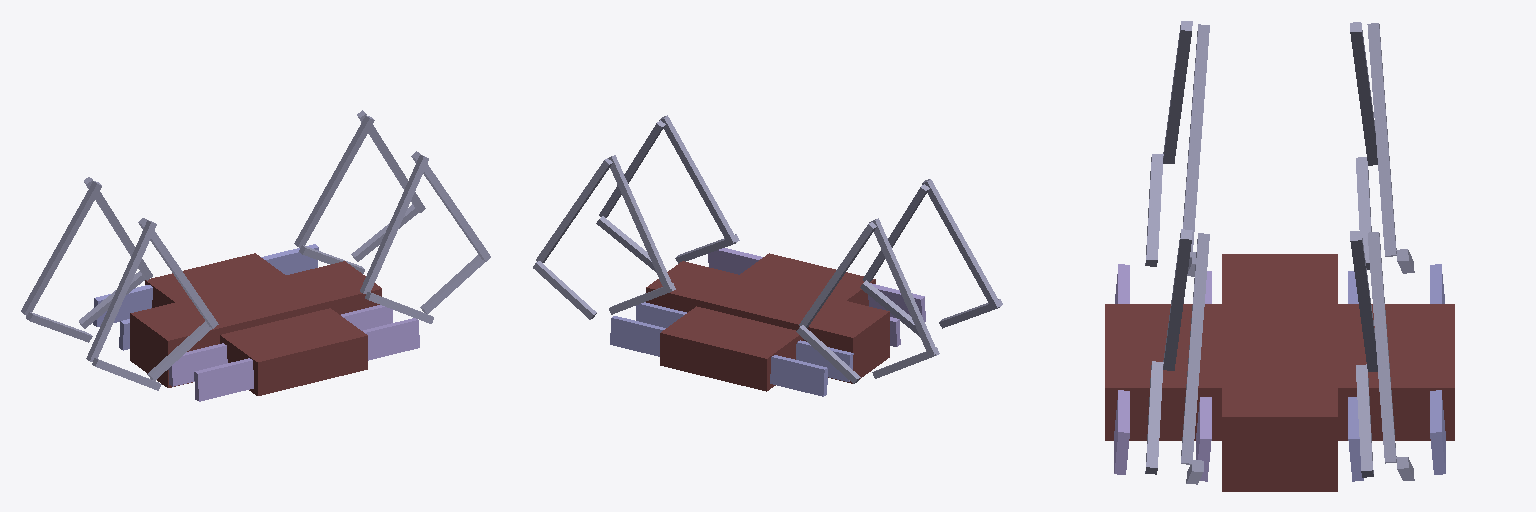
--- Facts derived from the render (not from the file) ---
Views: 3 orthographic renders of the robot side by side, from view 1: azimuth 30°, elevation 25°; view 2: azimuth 150°, elevation 25°; view 3: azimuth 270°, elevation 25°.
Model quadruped with 27 links and 26 joints (16 revolute, 10 fixed), rooted at base_chassis_link, posed every joint at zero.
Visible links, largest first — view 1: base_chassis_link, chassis_right, chassis_left, lower_leg_back_leftR_link, lower_leg_back_rightR_link, lower_leg_front_leftR_link, lower_leg_front_rightR_link, lower_leg_back_rightL_link, lower_leg_front_rightL_link, upper_leg_back_rightL_link, upper_leg_front_rightL_link, lower_leg_back_leftL_link (+6 smaller); view 2: base_chassis_link, chassis_left, chassis_right, lower_leg_back_rightR_link, lower_leg_back_leftR_link, lower_leg_front_rightR_link, lower_leg_front_leftR_link, lower_leg_back_leftL_link, lower_leg_front_leftL_link, lower_leg_back_rightL_link, lower_leg_front_rightL_link, upper_leg_front_leftL_link (+3 smaller); view 3: base_chassis_link, chassis_right, chassis_left, lower_leg_back_leftL_link, lower_leg_front_rightL_link, lower_leg_front_leftL_link, lower_leg_back_rightL_link, lower_leg_back_rightR_link, lower_leg_front_rightR_link, lower_leg_back_leftR_link, lower_leg_front_leftR_link, upper_leg_back_rightR_link (+3 smaller).
Link boxes in pixels (bbox=[...]): base_chassis_link: bbox=[130, 253, 381, 395]; chassis_right: bbox=[168, 305, 419, 401]; chassis_left: bbox=[93, 244, 318, 350]; lower_leg_back_leftR_link: bbox=[21, 181, 101, 315]; lower_leg_back_rightR_link: bbox=[86, 220, 156, 361]; lower_leg_front_leftR_link: bbox=[294, 115, 374, 247]; lower_leg_front_rightR_link: bbox=[360, 155, 428, 293]; lower_leg_back_rightL_link: bbox=[138, 218, 218, 328]; lower_leg_front_rightL_link: bbox=[411, 151, 490, 261]; upper_leg_back_rightL_link: bbox=[147, 321, 211, 380]; upper_leg_front_rightL_link: bbox=[420, 254, 484, 313]; lower_leg_back_leftL_link: bbox=[84, 177, 152, 280]; base_chassis_link: bbox=[646, 253, 889, 391]; chassis_left: bbox=[610, 302, 853, 396]; chassis_right: bbox=[708, 248, 925, 346]; lower_leg_back_rightR_link: bbox=[922, 179, 1000, 309]; lower_leg_back_leftR_link: bbox=[869, 218, 937, 355]; lower_leg_front_rightR_link: bbox=[659, 115, 736, 243]; lower_leg_front_leftR_link: bbox=[608, 155, 673, 290]; lower_leg_back_leftL_link: bbox=[799, 222, 876, 327]; lower_leg_front_leftL_link: bbox=[536, 158, 612, 262]; lower_leg_back_rightL_link: bbox=[863, 184, 929, 282]; lower_leg_front_rightL_link: bbox=[599, 120, 665, 217]; upper_leg_front_leftL_link: bbox=[533, 261, 596, 319]; base_chassis_link: bbox=[1105, 254, 1454, 491]; chassis_right: bbox=[1114, 264, 1211, 481]; chassis_left: bbox=[1348, 264, 1445, 481]; lower_leg_back_leftL_link: bbox=[1367, 23, 1396, 256]; lower_leg_front_rightL_link: bbox=[1181, 233, 1209, 464]; lower_leg_front_leftL_link: bbox=[1368, 232, 1396, 463]; lower_leg_back_rightL_link: bbox=[1183, 24, 1209, 257]; lower_leg_back_rightR_link: bbox=[1163, 21, 1192, 163]; lower_leg_front_rightR_link: bbox=[1163, 229, 1192, 370]; lower_leg_back_leftR_link: bbox=[1350, 22, 1377, 165]; lower_leg_front_leftR_link: bbox=[1350, 231, 1377, 371]; upper_leg_back_rightR_link: bbox=[1145, 154, 1163, 266].
Size in the robot's own frame: 0.6268 by 0.3 by 0.2692 metres.
0 mesh visuals loaded from 1 distinct referenced files (none loaded); not drawn: 8 (reference not matched to a file when rendering).

URDF robot description (quadruped):
<?xml version="0.0" ?>
<!-- ======================================================================= -->
<!--LICENSE:                                                                 -->
<!--Copyright (c) 2017, Erwin Coumans                                        -->
<!--Google Inc.                                                              -->
<!--All rights reserved.                                                     -->
<!--                                                                         -->
<!--Redistribution and use in source and binary forms, with or without       -->
<!--modification, are permitted provided that the following conditions are   -->
<!--met:                                                                     -->
<!--                                                                         -->
<!--1. Redistributions or derived work must retain this copyright notice,    -->
<!--   this list of conditions and the following disclaimer.                 -->
<!--                                                                         -->
<!--2. Redistributions in binary form must reproduce the above copyright     -->
<!--   notice, this list of conditions and the following disclaimer in the   -->
<!--   documentation and/or other materials provided with the distribution.  -->
<!--                                                                         -->
<!--THIS SOFTWARE IS PROVIDED BY THE COPYRIGHT HOLDERS AND CONTRIBUTORS "AS  -->
<!--IS" AND ANY EXPRESS OR IMPLIED WARRANTIES, INCLUDING, BUT NOT LIMITED TO,-->
<!--THE IMPLIED WARRANTIES OF MERCHANTABILITY AND FITNESS FOR A PARTICULAR   -->
<!--PURPOSE ARE DISCLAIMED. IN NO EVENT SHALL THE COPYRIGHT HOLDER OR        -->
<!--CONTRIBUTORS BE LIABLE FOR ANY DIRECT, INDIRECT, INCIDENTAL, SPECIAL,    -->
<!--EXEMPLARY, OR CONSEQUENTIAL DAMAGES (INCLUDING, BUT NOT LIMITED TO,      -->
<!--PROCUREMENT OF SUBSTITUTE GOODS OR SERVICES; LOSS OF USE, DATA, OR       -->
<!--PROFITS; OR BUSINESS INTERRUPTION) HOWEVER CAUSED AND ON ANY THEORY OF   -->
<!--LIABILITY, WHETHER IN CONTRACT, STRICT LIABILITY, OR TORT (INCLUDING     -->
<!--NEGLIGENCE OR OTHERWISE) ARISING IN ANY WAY OUT OF THE USE OF THIS       -->
<!--SOFTWARE, EVEN IF ADVISED OF THE POSSIBILITY OF SUCH DAMAGE.             -->

<robot name="quadruped">
  <link name="base_chassis_link">
    <visual>
      <geometry>
        <box size=".33 0.10 .07"/>
      </geometry>
      <material name="black">
        <color rgba="0.5 0.3 0.3 1"/>
      </material>
    </visual>
    <visual>
			<origin rpy="0 0 0" xyz="0 0.10 0"/>
      <geometry>
        <box size=".17 0.10 .05"/>
      </geometry>
      <material name="black">
        <color rgba="0.5 0.3 0.3 1"/>
      </material>
    </visual>
		<visual>
			<origin rpy="0 0 0" xyz="0 -0.10 0"/>
      <geometry>
        <box size=".17 0.10 .05"/>
      </geometry>
      <material name="black">
        <color rgba="0.5 0.3 0.3 1"/>
      </material>
    </visual>

    <collision>
      <geometry>
       <box size=".33 0.10 .07"/>
      </geometry>
    </collision>
    <collision>
			<origin rpy="0 0 0" xyz="0 0.10 0"/>
      <geometry>
       <box size=".17 0.10 .05"/>
      </geometry>
    </collision>
    <collision>
			<origin rpy="0 0 0" xyz="0 -0.10 0"/>
      <geometry>
       <box size=".17 0.10 .05"/>
      </geometry>
    </collision>

    <inertial>
      <mass value="3"/>
      <inertia ixx="0.05" ixy="0.0" ixz="0.0" iyy="0.05" iyz="0.0" izz="0.05"/>
    </inertial>
  </link>

  <link name="chassis_right">
    <visual>
			<origin rpy="0 0 0" xyz="0 0.035 0"/>
      <geometry>
       <box size=".34 0.01 .04"/>
      </geometry>
			<material name="grey">
        <color rgba="0.7 0.65 0.85 1"/>
      </material>    </visual>
    <visual>
			<origin rpy="0 0 0" xyz="0 -0.035 0"/>
      <geometry>
       <box size=".34 0.01 .04"/>
      </geometry>
			<material name="grey">
        <color rgba="0.7 0.65 0.85 1"/>
      </material>    </visual>
    <collision>
			<origin rpy="0 0 0" xyz="0 0.035 0"/>
      <geometry>
       <box size=".34 0.01 .04"/>
      </geometry>
    </collision>
    <collision>
			<origin rpy="0 0 0" xyz="0 -0.035 0"/>
      <geometry>
       <box size=".34 0.01 .04"/>
      </geometry>
    </collision>
    <inertial>
      <mass value=".1"/>
      <inertia ixx="0.001" ixy="0.0" ixz="0.0" iyy="0.001" iyz="0.0" izz="0.001"/>
    </inertial>
  </link>

  <joint name="chassis_right_center" type="fixed">
    <axis xyz="0 0 1"/>
    <parent link="base_chassis_link"/>
    <child link="chassis_right"/>
    <origin rpy="-0.0872665 0 0" xyz="0.0 -0.10 0.0"/>
    <limit effort="100" velocity="100"/>
    <joint_properties damping="0.0" friction="0.0"/>
  </joint>

  <link name="chassis_left">
    <visual>
			<origin rpy="0 0 0" xyz="0 0.035 0"/>
      <geometry>
       <box size=".34 0.01 .04"/>
      </geometry>
			<material name="grey">
        <color rgba="0.65 0.65 0.85 1"/>
      </material>    </visual>
    <visual>
			<origin rpy="0 0 0" xyz="0 -0.035 0"/>
      <geometry>
       <box size=".34 0.01 .04"/>
      </geometry>
			<material name="grey">
        <color rgba="0.65 0.65 0.85 1"/>
      </material>    </visual>
    <collision>
			<origin rpy="0 0 0" xyz="0 0.035 0"/>
      <geometry>
       <box size=".34 0.01 .04"/>
      </geometry>
    </collision>
    <collision>
			<origin rpy="0 0 0" xyz="0 -0.035 0"/>
      <geometry>
       <box size=".34 0.01 .04"/>
      </geometry>
    </collision>
    <inertial>
      <mass value=".1"/>
      <inertia ixx="0.001" ixy="0.0" ixz="0.0" iyy="0.001" iyz="0.0" izz="0.001"/>
    </inertial>
  </link>

  <joint name="chassis_left_center" type="fixed">
    <axis xyz="0 0 1"/>
    <parent link="base_chassis_link"/>
    <child link="chassis_left"/>
    <origin rpy="0.0872665 0 0" xyz="0.0 0.10 0.0"/>
    <limit effort="100" velocity="100"/>
    <joint_properties damping="0.0" friction="0.0"/>
  </joint>

  
  
  <link name="motor_front_rightR_link">
    <visual>
      <geometry>
        <mesh filename="tmotor3.obj" scale="1 1 1"/>
      </geometry>
      <material name="white">
        <color rgba="1 1 1 1"/>
      </material>
    </visual>
    <collision>
      <geometry>
        <mesh filename="tmotor3.obj" scale="1 1 1"/>
      </geometry>
    </collision>
    <inertial>
      <mass value="0.25"/>
      <inertia ixx="0.005" ixy="0.0" ixz="0.0" iyy="0.005" iyz="0.0" izz="0.005"/>
    </inertial>
  </link>
  <joint name="motor_front_rightR_joint" type="revolute">
    <axis xyz="0 0 1"/>
    <parent link="chassis_right"/>
    <child link="motor_front_rightR_link"/>
    <origin rpy="1.57075 -1.0362 0" xyz="0.21 -0.025 0"/>
    <limit effort="100" velocity="100" lower="-4.45" upper="1.25"/>
    <joint_properties damping="0.0" friction="0.0"/>
  </joint>


	<link name="motor_front_rightL_link">
    <visual>
      <geometry>
        <mesh filename="tmotor3.obj" scale="1 1 1"/>
      </geometry>
      <material name="white">
        <color rgba="1 1 1 1"/>
      </material>
    </visual>
    <collision>
      <geometry>
        <mesh filename="tmotor3.obj" scale="1 1 1"/>
      </geometry>
    </collision>
    <inertial>
      <mass value="0.25"/>
      <inertia ixx="0.005" ixy="0.0" ixz="0.0" iyy="0.005" iyz="0.0" izz="0.005"/>
    </inertial>
  </link>
  <joint name="motor_front_rightL_joint" type="revolute">
    <axis xyz="0 0 1"/>
    <parent link="chassis_right"/>
    <child link="motor_front_rightL_link"/>
    <origin rpy="1.57075 -1.0362 3.141592" xyz="0.21 0.04 0"/>
    <limit effort="100" velocity="100" lower="-1.25" upper="4.45"/>
    <joint_properties damping="0.0" friction="0.0"/>
  </joint>
  
  
  <link name="motor_front_leftL_link">
    <visual>
      <geometry>
        <mesh filename="tmotor3.obj" scale="1 1 1"/>
      </geometry>
      <material name="white">
        <color rgba="1 1 1 1"/>
      </material>
    </visual>
    <collision>
      <geometry>
        <mesh filename="tmotor3.obj" scale="1 1 1"/>
      </geometry>
    </collision>
    <inertial>
      <mass value="0.25"/>
      <inertia ixx="0.005" ixy="0.0" ixz="0.0" iyy="0.005" iyz="0.0" izz="0.005"/>
    </inertial>
  </link>
  <joint name="motor_front_leftL_joint" type="revolute">
    <axis xyz="0 0 1"/>
    <parent link="chassis_left"/>
    <child link="motor_front_leftL_link"/>
    <origin rpy="1.57075 -1.0362 3.141592" xyz="0.21 0.025 0"/>
    <limit effort="100" velocity="100" lower="-1.25" upper="4.45"/>
    <joint_properties damping="0.0" friction="0.0"/>
  </joint>


	<link name="motor_front_leftR_link">
    <visual>
      <geometry>
        <mesh filename="tmotor3.obj" scale="1 1 1"/>
      </geometry>
      <material name="white">
        <color rgba="1 1 1 1"/>
      </material>
    </visual>
    <inertial>
      <mass value="0.25"/>
      <inertia ixx="0.005" ixy="0.0" ixz="0.0" iyy="0.005" iyz="0.0" izz="0.005"/>
    </inertial>
  </link>
  <joint name="motor_front_leftR_joint" type="revolute">
    <axis xyz="0 0 1"/>
    <parent link="chassis_left"/>
    <child link="motor_front_leftR_link"/>
    <origin rpy="1.57075 -1.0362 0" xyz="0.21 -0.04 0"/>
    <limit effort="100" velocity="100" lower="-4.45" upper="1.25" />
    <joint_properties damping="0.0" friction="0.0"/>
  </joint>
  
  
  <link name="motor_back_rightR_link">
    <visual>
      <geometry>
        <mesh filename="tmotor3.obj" scale="1 1 1"/>
      </geometry>
      <material name="white">
        <color rgba="1 1 1 1"/>
      </material>
    </visual>
    <collision>
      <geometry>
        <mesh filename="tmotor3.obj" scale="1 1 1"/>
      </geometry>
    </collision>
    <inertial>
      <mass value="0.25"/>
      <inertia ixx="0.005" ixy="0.0" ixz="0.0" iyy="0.005" iyz="0.0" izz="0.005"/>
    </inertial>
  </link>
  <joint name="motor_back_rightR_joint" type="revolute">
    <axis xyz="0 0 1"/>
    <parent link="chassis_right"/>
    <child link="motor_back_rightR_link"/>
    <origin rpy="1.57075 -1.0362 0" xyz="-0.21 -0.025 0"/>
    <limit effort="100" velocity="100" lower="-1.25" upper="4.45"/>
    <joint_properties damping="0.0" friction="0.0"/>
  </joint>


	<link name="motor_back_rightL_link">
    <visual>
      <geometry>
        <mesh filename="tmotor3.obj" scale="1 1 1"/>
      </geometry>
      <material name="white">
        <color rgba="1 1 1 1"/>
      </material>
    </visual>
    <collision>
      <geometry>
        <mesh filename="tmotor3.obj" scale="1 1 1"/>
      </geometry>
    </collision>
    <inertial>
      <mass value="0.25"/>
      <inertia ixx="0.005" ixy="0.0" ixz="0.0" iyy="0.005" iyz="0.0" izz="0.005"/>
    </inertial>
  </link>
  <joint name="motor_back_rightL_joint" type="revolute">
    <axis xyz="0 0 1"/>
    <parent link="chassis_right"/>
    <child link="motor_back_rightL_link"/>
    <origin rpy="1.57075 -1.0362 3.141592" xyz="-0.21 0.04 0"/>
    <limit effort="100" velocity="100" lower="-4.45" upper="1.25"/>
    <joint_properties damping="0.0" friction="0.0"/>
  </joint>
  
  
  <link name="motor_back_leftL_link">
    <visual>
      <geometry>
        <mesh filename="tmotor3.obj" scale="1 1 1"/>
      </geometry>
      <material name="white">
        <color rgba="1 1 1 1"/>
      </material>
    </visual>
    <collision>
      <geometry>
        <mesh filename="tmotor3.obj" scale="1 1 1"/>
      </geometry>
    </collision>
    <inertial>
      <mass value="0.25"/>
      <inertia ixx="0.005" ixy="0.0" ixz="0.0" iyy="0.005" iyz="0.0" izz="0.005"/>
    </inertial>
  </link>
  <joint name="motor_back_leftL_joint" type="revolute">
    <axis xyz="0 0 1"/>
    <parent link="chassis_left"/>
    <child link="motor_back_leftL_link"/>
    <origin rpy="1.57075 -1.0362 3.141592" xyz="-0.21 0.025 0"/>
    <limit effort="100" velocity="100" lower="-4.45" upper="1.25"/>
    <joint_properties damping="0.0" friction="0.0"/>
  </joint>


	<link name="motor_back_leftR_link">
    <visual>
      <geometry>
        <mesh filename="tmotor3.obj" scale="1 1 1"/>
      </geometry>
      <material name="white">
        <color rgba="1 1 1 1"/>
      </material>
    </visual>
    <collision>
      <geometry>
        <mesh filename="tmotor3.obj" scale="1 1 1"/>
      </geometry>
    </collision>
    <inertial>
      <mass value="0.25"/>
      <inertia ixx="0.005" ixy="0.0" ixz="0.0" iyy="0.005" iyz="0.0" izz="0.005"/>
    </inertial>
  </link>
  <joint name="motor_back_leftR_joint" type="revolute">
    <axis xyz="0 0 1"/>
    <parent link="chassis_left"/>
    <child link="motor_back_leftR_link"/>
    <origin rpy="1.57075 -1.0362 0" xyz="-0.21 -0.04 0"/>
    <limit effort="100" velocity="100" lower="-1.25" upper="4.45"/>
    <joint_properties damping="0.0" friction="0.0"/>
  </joint>

	<link name="upper_leg_front_rightR_link">
    <visual>
      <geometry>
        <box size=".01 0.01 .11"/>
      </geometry>
      <material name="grey">
        <color rgba="0.65 0.65 0.75 1"/>
      </material>
    </visual>
    <collision>
      <geometry>
        <box size=".01 0.01 .11"/>
      </geometry>
    </collision>
    <inertial>
      <mass value="0.05"/>
      <inertia ixx="0.0005" ixy="0.0" ixz="0.0" iyy="0.0005" iyz="0.0" izz="0.0005"/>
    </inertial>
  </link>
  <joint name="hip_front_rightR_link" type="fixed">
    <axis xyz="0 0 1"/>
    <parent link="motor_front_rightR_link"/>
    <child link="upper_leg_front_rightR_link"/>
    <origin rpy="-1.57075 0 0" xyz="0.0 0.06 -0.015"/>
    <limit effort="100" velocity="100"/>
    <joint_properties damping="0.0" friction="0.0"/>
  </joint>

	<link name="lower_leg_front_rightR_link">
	<contact>
		<stiffness value="10000"/>
		<damping value="10"/>
		<lateral_friction value="1"/>
  </contact>

    <visual>
    	<origin rpy="0.0 0 0" xyz="0 0 .1"/>
      <geometry>
        <box size=".01 0.01 .2"/>
      </geometry>
      <material name="grey">
        <color rgba="0.65 0.65 0.75 1"/>
      </material>
    </visual>
    <collision>
    	<origin rpy="0.0 0 0" xyz="0 0 .1"/>
      <geometry>
        <box size=".01 0.01 .2"/>
      </geometry>
    </collision>
    <inertial>
      <mass value="0.05"/>
      <inertia ixx="0.0005" ixy="0.0" ixz="0.0" iyy="0.0005" iyz="0.0" izz="0.0005"/>
    </inertial>
  </link>
  <joint name="knee_front_rightR_link" type="revolute">
    <axis xyz="0 1 0"/>
    <parent link="upper_leg_front_rightR_link"/>
    <child link="lower_leg_front_rightR_link"/>
    <origin rpy="0.0 1.57075 0.0" xyz="0.0 0.01 .055"/>
    <limit effort="100" lower="0.0" upper="2.09439510239" velocity="100"/>
    <joint_properties damping="0.0" friction="0.0"/>
  </joint>

    
  <link name="upper_leg_front_rightL_link">
    <visual>
      <geometry>
        <box size=".01 0.01 .11"/>
      </geometry>
      <material name="grey">
        <color rgba="0.65 0.65 0.75 1"/>
      </material>
    </visual>
    <collision>
      <geometry>
        <box size=".01 0.01 .11"/>
      </geometry>
    </collision>
    <inertial>
      <mass value="0.05"/>
      <inertia ixx="0.0005" ixy="0.0" ixz="0.0" iyy="0.0005" iyz="0.0" izz="0.0005"/>
    </inertial>
  </link>
  <joint name="motor_front_rightL_link" type="fixed">
    <axis xyz="0 0 1"/>
    <parent link="motor_front_rightL_link"/>
    <child link="upper_leg_front_rightL_link"/>
    <origin rpy="-1.57075 0 0" xyz="0.0 0.06 -0.015"/>
    <limit effort="100" velocity="100"/>
    <joint_properties damping="0.0" friction="0.0"/>
  </joint>

  

  
  <link name="lower_leg_front_rightL_link">
	<contact>
		<stiffness value="10000"/>
		<damping value="10"/>
		<lateral_friction value="1"/>
  </contact>

    <visual>
    	<origin rpy="0.0 0 0" xyz="0 0 .1"/>
      <geometry>
        <box size=".01 0.01 .198"/>
      </geometry>
      <material name="grey">
        <color rgba="0.65 0.65 0.75 1"/>
      </material>
    </visual>
    <collision>
    	<origin rpy="0.0 0 0" xyz="0 0 .1"/>
      <geometry>
        <box size=".01 0.01 .198"/>
      </geometry>
    </collision>
    <inertial>
      <mass value="0.05"/>
      <inertia ixx="0.0005" ixy="0.0" ixz="0.0" iyy="0.0005" iyz="0.0" izz="0.0005"/>
    </inertial>
  </link>
  <joint name="knee_front_rightL_link" type="revolute">
    <axis xyz="0 1 0"/>
    <parent link="upper_leg_front_rightL_link"/>
    <child link="lower_leg_front_rightL_link"/>
    <origin rpy="0 1.57075 0" xyz="0.0 0.01 .055"/>
    <limit effort="100" lower="0.0" upper="2.09439510239" velocity="100"/>
    <joint_properties damping="0.0" friction="0.0"/>
  </joint>


	<link name="upper_leg_front_leftR_link">
    <visual>
      <geometry>
        <box size=".01 0.01 .11"/>
      </geometry>
      <material name="grey">
        <color rgba="0.65 0.65 0.75 1"/>
      </material>
    </visual>
    <collision>
      <geometry>
        <box size=".01 0.01 .11"/>
      </geometry>
    </collision>
    <inertial>
      <mass value="0.05"/>
      <inertia ixx="0.0005" ixy="0.0" ixz="0.0" iyy="0.0005" iyz="0.0" izz="0.0005"/>
    </inertial>
  </link>
  <joint name="hip_front_leftR_link" type="fixed">
    <axis xyz="0 0 1"/>
    <parent link="motor_front_leftR_link"/>
    <child link="upper_leg_front_leftR_link"/>
    <origin rpy="-1.57075 0 0" xyz="0.0 0.06 -0.015"/>
    <limit effort="100" velocity="100"/>
    <joint_properties damping="0.0" friction="0.0"/>
  </joint>


	<link name="lower_leg_front_leftR_link">
	<contact>
		<stiffness value="10000"/>
		<damping value="10"/>
		<lateral_friction value="1"/>
  </contact>

    <visual>
    	<origin rpy="0.0 0.0 0" xyz="0 0 .1"/>
      <geometry>
        <box size=".01 0.01 .2"/>
      </geometry>
      <material name="grey">
        <color rgba="0.65 0.65 0.75 1"/>
      </material>
    </visual>
    <collision>
    	<origin rpy="0.0 0.0 0" xyz="0 0 .1"/>
      <geometry>
        <box size=".01 0.01 .2"/>
      </geometry>
    </collision>
    <inertial>
      <mass value="0.05"/>
      <inertia ixx="0.0005" ixy="0.0" ixz="0.0" iyy="0.0005" iyz="0.0" izz="0.0005"/>
    </inertial>
  </link>
  <joint name="knee_front_leftR_link" type="revolute">
    <axis xyz="0 1 0"/>
    <parent link="upper_leg_front_leftR_link"/>
    <child link="lower_leg_front_leftR_link"/>
    <origin rpy="0 1.57075 0" xyz="0.0 0.01 .055"/>
    <limit effort="100" lower="0.0" upper="2.09439510239" velocity="100"/>
    <joint_properties damping="0.0" friction="0.0"/>
  </joint>



   <link name="upper_leg_front_leftL_link">
    <visual>
      <geometry>
        <box size=".01 0.01 .11"/>
      </geometry>
      <material name="grey">
        <color rgba="0.65 0.65 0.75 1"/>
      </material>
    </visual>
    <collision>
      <geometry>
        <box size=".01 0.01 .11"/>
      </geometry>
    </collision>
    <inertial>
      <mass value="0.05"/>
      <inertia ixx="0.0005" ixy="0.0" ixz="0.0" iyy="0.0005" iyz="0.0" izz="0.0005"/>
    </inertial>
  </link>
  <joint name="motor_front_leftL_link" type="fixed">
    <axis xyz="0 0 1"/>
    <parent link="motor_front_leftL_link"/>
    <child link="upper_leg_front_leftL_link"/>
    <origin rpy="-1.57075 0 0" xyz="0.0 0.06 -0.015"/>
    <limit effort="100" velocity="100"/>
    <joint_properties damping="0.0" friction="0.0"/>
  </joint>


  <link name="lower_leg_front_leftL_link">
	<contact>
		<stiffness value="10000"/>
		<damping value="10"/>
		<lateral_friction value="1"/>
  </contact>

    <visual>
    	<origin rpy="0.0 0.0 0" xyz="0 0 .1"/>
      <geometry>
        <box size=".01 0.01 .198"/>
      </geometry>
      <material name="grey">
        <color rgba="0.65 0.65 0.75 1"/>
      </material>
    </visual>
    <collision>
    	<origin rpy="0.0 0.0 0" xyz="0 0 .1"/>
      <geometry>
        <box size=".01 0.01 .198"/>
      </geometry>
    </collision>
    <inertial>
      <mass value="0.05"/>
      <inertia ixx="0.0005" ixy="0.0" ixz="0.0" iyy="0.0005" iyz="0.0" izz="0.0005"/>
    </inertial>
  </link>
  <joint name="knee_front_leftL_link" type="revolute">
    <axis xyz="0 1 0"/>
    <parent link="upper_leg_front_leftL_link"/>
    <child link="lower_leg_front_leftL_link"/>
    <origin rpy="0 1.57075 0" xyz="0.0 0.01 .055"/>
    <limit effort="100" lower="0.0" upper="2.09439510239" velocity="100"/>
    <joint_properties damping="0.0" friction="0.0"/>
  </joint>
  
	<link name="upper_leg_back_rightR_link">
    <visual>
      <geometry>
        <box size=".01 0.01 .11"/>
      </geometry>
      <material name="grey">
        <color rgba="0.65 0.65 0.75 1"/>
      </material>
    </visual>
    <collision>
      <geometry>
        <box size=".01 0.01 .11"/>
      </geometry>
    </collision>
    <inertial>
      <mass value="0.05"/>
      <inertia ixx="0.0005" ixy="0.0" ixz="0.0" iyy="0.0005" iyz="0.0" izz="0.0005"/>
    </inertial>
  </link>
  <joint name="hip_rightR_link" type="fixed">
    <axis xyz="0 0 1"/>
    <parent link="motor_back_rightR_link"/>
    <child link="upper_leg_back_rightR_link"/>
    <origin rpy="-1.57075 0 0" xyz="0.0 0.06 -0.015"/>
    <limit effort="100" velocity="100"/>
    <joint_properties damping="0.0" friction="0.0"/>
  </joint>

	<link name="lower_leg_back_rightR_link">
	<contact>
		<stiffness value="10000"/>
		<damping value="10"/>
		<lateral_friction value="1"/>
  </contact>

    <visual>
    	<origin rpy="0.0 0 0" xyz="0 0 .1"/>
      <geometry>
        <box size=".01 0.01 .2032"/>
      </geometry>
      <material name="grey">
        <color rgba="0.65 0.65 0.75 1"/>
      </material>
    </visual>
    <collision>
    	<origin rpy="0.0 0 0" xyz="0 0 .1"/>
      <geometry>
        <box size=".01 0.01 .2032"/>
      </geometry>
    </collision>
    <inertial>
      <mass value="0.05"/>
      <inertia ixx="0.0005" ixy="0.0" ixz="0.0" iyy="0.0005" iyz="0.0" izz="0.0005"/>
    </inertial>
  </link>
  <joint name="knee_back_rightR_link" type="revolute">
    <axis xyz="0 1 0"/>
    <parent link="upper_leg_back_rightR_link"/>
    <child link="lower_leg_back_rightR_link"/>
    <origin rpy="0 1.57075 0" xyz="0.0 0.01 .055"/>
    <limit effort="100" lower="0.0" upper="2.09439510239" velocity="100"/>
    <joint_properties damping="0.0" friction="0.0"/>
  </joint>

    
  <link name="upper_leg_back_rightL_link">
    <visual>
      <geometry>
        <box size=".01 0.01 .11"/>
      </geometry>
      <material name="grey">
        <color rgba="0.65 0.65 0.75 1"/>
      </material>
    </visual>
    <collision>
      <geometry>
        <box size=".01 0.01 .11"/>
      </geometry>
    </collision>
    <inertial>
      <mass value="0.05"/>
      <inertia ixx="0.0005" ixy="0.0" ixz="0.0" iyy="0.0005" iyz="0.0" izz="0.0005"/>
    </inertial>
  </link>
  <joint name="motor_back_rightL_link" type="fixed">
    <axis xyz="0 0 1"/>
    <parent link="motor_back_rightL_link"/>
    <child link="upper_leg_back_rightL_link"/>
    <origin rpy="-1.57075 0 0" xyz="0.0 0.06 -0.015"/>
    <limit effort="100" velocity="100"/>
    <joint_properties damping="0.0" friction="0.0"/>
  </joint>

  

  
  <link name="lower_leg_back_rightL_link">
	<contact>
		<stiffness value="10000"/>
		<damping value="10"/>
		<lateral_friction value="1"/>
  </contact>
  
    <visual>
    	<origin rpy="0.0 0 0" xyz="0 0 .1"/>
      <geometry>
        <box size=".01 0.01 .2"/>
      </geometry>
      <material name="grey">
        <color rgba="0.65 0.65 0.75 1"/>
      </material>
    </visual>
    <collision>
    	<origin rpy="0.0 0 0" xyz="0 0 .1"/>
      <geometry>
        <box size=".01 0.01 .2"/>
      </geometry>
    </collision>
    <inertial>
      <mass value="0.05"/>
      <inertia ixx="0.0005" ixy="0.0" ixz="0.0" iyy="0.0005" iyz="0.0" izz="0.0005"/>
    </inertial>
  </link>
  <joint name="knee_back_rightL_link" type="revolute">
    <axis xyz="0 1 0"/>
    <parent link="upper_leg_back_rightL_link"/>
    <child link="lower_leg_back_rightL_link"/>
    <origin rpy="0 1.57075 0" xyz="0.0 0.01 .055"/>
    <limit effort="100" lower="0.0" upper="2.09439510239" velocity="100"/>
    <joint_properties damping="0.0" friction="0.0"/>
  </joint>



	<link name="upper_leg_back_leftR_link">
    <visual>
      <geometry>
        <box size=".01 0.01 .11"/>
      </geometry>
      <material name="grey">
        <color rgba="0.65 0.65 0.75 1"/>
      </material>
    </visual>
    <collision>
      <geometry>
        <box size=".01 0.01 .11"/>
      </geometry>
    </collision>
    <inertial>
      <mass value="0.05"/>
      <inertia ixx="0.0005" ixy="0.0" ixz="0.0" iyy="0.0005" iyz="0.0" izz="0.0005"/>
    </inertial>
  </link>
  <joint name="hip_leftR_link" type="fixed">
    <axis xyz="0 0 1"/>
    <parent link="motor_back_leftR_link"/>
    <child link="upper_leg_back_leftR_link"/>
    <origin rpy="-1.57075 0 0" xyz="0.0 0.06 -0.015"/>
    <limit effort="100" velocity="100"/>
    <joint_properties damping="0.0" friction="0.0"/>
  </joint>

<link name="lower_leg_back_leftR_link">
	<contact>
		<stiffness value="10000"/>
		<damping value="10"/>
		<lateral_friction value="1"/>
  </contact>

    <visual>
    	<origin rpy="0.0 0 0" xyz="0 0 .1"/>
      <geometry>
        <box size=".01 0.01 .2032"/>
      </geometry>
      <material name="grey">
        <color rgba="0.65 0.65 0.75 1"/>
      </material>
    </visual>
    <collision>
    	<origin rpy="0.0 0 0" xyz="0 0 .1"/>
      <geometry>
        <box size=".01 0.01 .2032"/>
      </geometry>
    </collision>
    <inertial>
      <mass value="0.05"/>
      <inertia ixx="0.0005" ixy="0.0" ixz="0.0" iyy="0.0005" iyz="0.0" izz="0.0005"/>
    </inertial>
  </link>
  <joint name="knee_back_leftR_link" type="revolute">
    <axis xyz="0 1 0"/>
    <parent link="upper_leg_back_leftR_link"/>
    <child link="lower_leg_back_leftR_link"/>
    <origin rpy="0 1.57075 0" xyz="0.0 0.01 .055"/>
    <limit effort="100" lower="0.0" upper="2.09439510239" velocity="100"/>
    <joint_properties damping="0.0" friction="0.0"/>
  </joint>
  
   <link name="upper_leg_back_leftL_link">
    <visual>
      <geometry>
        <box size=".01 0.01 .11"/>
      </geometry>
      <material name="grey">
        <color rgba="0.65 0.65 0.75 1"/>
      </material>
    </visual>
    <collision>
      <geometry>
        <box size=".01 0.01 .11"/>
      </geometry>
    </collision>
    <inertial>
      <mass value="0.05"/>
      <inertia ixx="0.0005" ixy="0.0" ixz="0.0" iyy="0.0005" iyz="0.0" izz="0.0005"/>
    </inertial>
  </link>
  <joint name="motor_back_leftL_link" type="fixed">
    <axis xyz="0 0 1"/>
    <parent link="motor_back_leftL_link"/>
    <child link="upper_leg_back_leftL_link"/>
    <origin rpy="-1.57075 0 0" xyz="0.0 0.06 -0.015"/>
    <limit effort="100" velocity="100"/>
    <joint_properties damping="0.0" friction="0.0"/>
  </joint>

 
  <link name="lower_leg_back_leftL_link">
	<contact>
		<stiffness value="10000"/>
		<damping value="10"/>
		<lateral_friction value="1"/>
  </contact>

    <visual>
    	<origin rpy="0.0 0 0" xyz="0 0 .1"/>
      <geometry>
        <box size=".01 0.01 .2"/>
      </geometry>
      <material name="grey">
        <color rgba="0.65 0.65 0.75 1"/>
      </material>
    </visual>
    <collision>
    	<origin rpy="0.0 0 0" xyz="0 0 .1"/>
      <geometry>
        <box size=".01 0.01 .2"/>
      </geometry>
    </collision>
    <inertial>
      <mass value="0.05"/>
      <inertia ixx="0.0005" ixy="0.0" ixz="0.0" iyy="0.0005" iyz="0.0" izz="0.0005"/>
    </inertial>
  </link>
  <joint name="knee_back_leftL_link" type="revolute">
    <axis xyz="0 1 0"/>
    <parent link="upper_leg_back_leftL_link"/>
    <child link="lower_leg_back_leftL_link"/>
    <origin rpy="0 1.57075 0" xyz="0.0 0.01 .055"/>
    <limit effort="100" lower="0.0" upper="2.09439510239" velocity="100"/>
    <joint_properties damping="0.0" friction="0.0"/>
  </joint>
 
</robot>
